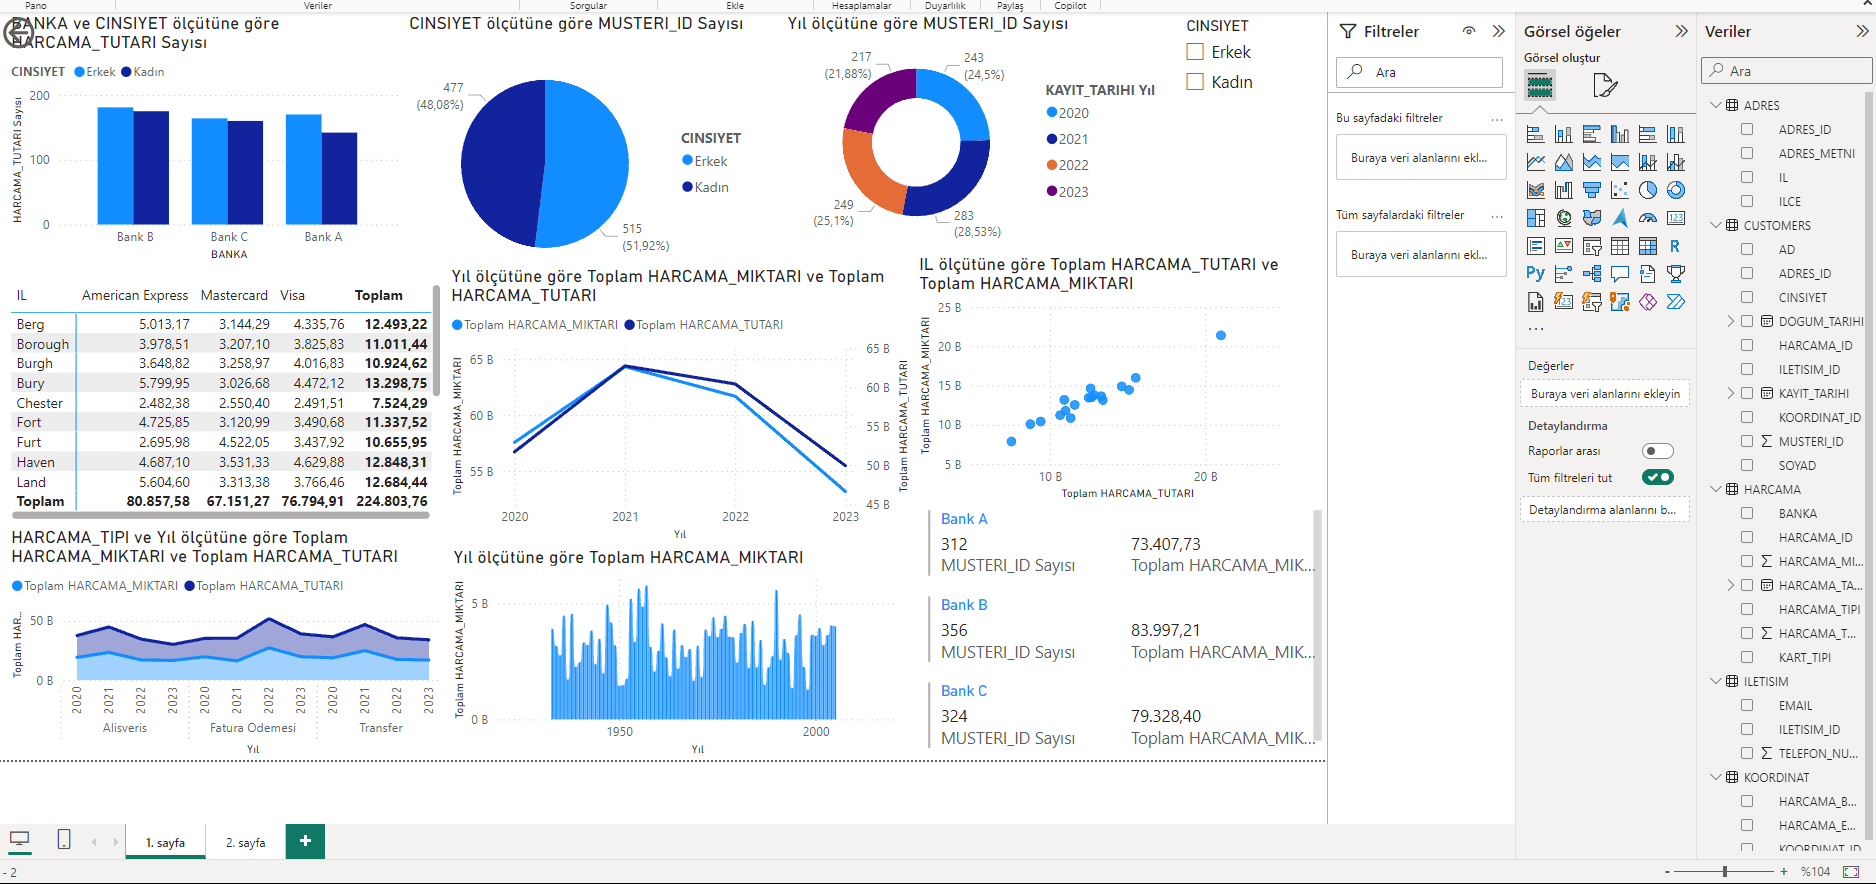

The page's visual inventory and layout, read from the dashboard file:
{"tool":"powerbi","page":{"name":"1. sayfa","canvas":[1280,720],"ordinal":0},"visuals":[{"type":"clusteredColumnChart","fields":{"Category":["HARCAMA.BANKA"],"Y":["CountNonNull(HARCAMA.HARCAMA_TUTARI)"],"Series":["CUSTOMERS.CINSIYET"]},"box":[7.7,0,383.3,243.7],"z":0},{"type":"donutChart","fields":{"Category":["CUSTOMERS.KAYIT_TARIHI.Varyasyon.Tarih Hiyerarşisi.Yıl","CUSTOMERS.KAYIT_TARIHI.Varyasyon.Tarih Hiyerarşisi.Çeyrek","CUSTOMERS.KAYIT_TARIHI.Varyasyon.Tarih Hiyerarşisi.Ay","CUSTOMERS.KAYIT_TARIHI.Varyasyon.Tarih Hiyerarşisi.Gün"],"Y":["CountNonNull(CUSTOMERS.MUSTERI_ID)"]},"box":[755.1,0,376.5,232.2],"z":1000},{"type":"pieChart","fields":{"Category":["CUSTOMERS.CINSIYET"],"Y":["CountNonNull(CUSTOMERS.MUSTERI_ID)"]},"box":[391,0,347.7,273.5],"z":2000},{"type":"pivotTable","fields":{"Rows":["ADRES.IL"],"Columns":["HARCAMA.KART_TIPI"],"Values":["Sum(HARCAMA.HARCAMA_TUTARI)"]},"box":[7.7,257.2,423.8,236.9],"z":3000},{"type":"lineChart","fields":{"Category":["CUSTOMERS.KAYIT_TARIHI.Varyasyon.Tarih Hiyerarşisi.Yıl"],"Y":["Sum(HARCAMA.HARCAMA_MIKTARI)"],"Y2":["Sum(HARCAMA.HARCAMA_TUTARI)"]},"box":[431.5,243.7,450.7,269.7],"z":4000},{"type":"slicer","fields":{"Values":["CUSTOMERS.CINSIYET"]},"box":[1131.6,0,148.4,225.1],"z":5000},{"type":"actionButton","box":[0,0,100,40],"z":6000},{"type":"stackedAreaChart","fields":{"Category":["HARCAMA.HARCAMA_TIPI","CUSTOMERS.KAYIT_TARIHI.Varyasyon.Tarih Hiyerarşisi.Yıl"],"Y":["Sum(HARCAMA.HARCAMA_MIKTARI)","Sum(HARCAMA.HARCAMA_TUTARI)"]},"box":[7.7,495,424.7,225.4],"z":7000},{"type":"ribbonChart","fields":{"Category":["CUSTOMERS.DOGUM_TARIHI.Varyasyon.Tarih Hiyerarşisi.Yıl"],"Y":["Sum(HARCAMA.HARCAMA_MIKTARI)"]},"box":[433,514,449,206],"z":8000},{"type":"multiRowCard","fields":{"Values":["HARCAMA.BANKA","CountNonNull(CUSTOMERS.MUSTERI_ID)","Sum(HARCAMA.HARCAMA_MIKTARI)"]},"box":[891.4,474.4,388.6,245.3],"z":9000},{"type":"scatterChart","fields":{"Category":["ADRES.IL"],"X":["Sum(HARCAMA.HARCAMA_TUTARI)"],"Y":["Sum(HARCAMA.HARCAMA_MIKTARI)"]},"box":[882.3,232.2,372.5,242.3],"z":10000}]}

Visuals, with their boxes on the page's 1280x720 design canvas (x1, y1, x2, y2). These are canvas units, not pixel positions in the 1876x884 screenshot, which may show the page scaled, cropped or inside an application window:
clusteredColumnChart - HARCAMA.BANKA x CountNonNull(HARCAMA.HARCAMA_TUTARI): (x1=8, y1=0, x2=391, y2=244)
donutChart - CUSTOMERS.KAYIT_TARIHI.Varyasyon.Tarih Hiyerarşisi.Yıl x CUSTOMERS.KAYIT_TARIHI.Varyasyon.Tarih Hiyerarşisi.Çeyrek: (x1=755, y1=0, x2=1132, y2=232)
pieChart - CUSTOMERS.CINSIYET x CountNonNull(CUSTOMERS.MUSTERI_ID): (x1=391, y1=0, x2=739, y2=274)
pivotTable - ADRES.IL x HARCAMA.KART_TIPI: (x1=8, y1=257, x2=432, y2=494)
lineChart - CUSTOMERS.KAYIT_TARIHI.Varyasyon.Tarih Hiyerarşisi.Yıl x Sum(HARCAMA.HARCAMA_MIKTARI): (x1=432, y1=244, x2=882, y2=513)
slicer - CUSTOMERS.CINSIYET: (x1=1132, y1=0, x2=1280, y2=225)
actionButton: (x1=0, y1=0, x2=100, y2=40)
stackedAreaChart - HARCAMA.HARCAMA_TIPI x CUSTOMERS.KAYIT_TARIHI.Varyasyon.Tarih Hiyerarşisi.Yıl: (x1=8, y1=495, x2=432, y2=720)
ribbonChart - CUSTOMERS.DOGUM_TARIHI.Varyasyon.Tarih Hiyerarşisi.Yıl x Sum(HARCAMA.HARCAMA_MIKTARI): (x1=433, y1=514, x2=882, y2=720)
multiRowCard - HARCAMA.BANKA x CountNonNull(CUSTOMERS.MUSTERI_ID): (x1=891, y1=474, x2=1280, y2=720)
scatterChart - ADRES.IL x Sum(HARCAMA.HARCAMA_TUTARI): (x1=882, y1=232, x2=1255, y2=474)
